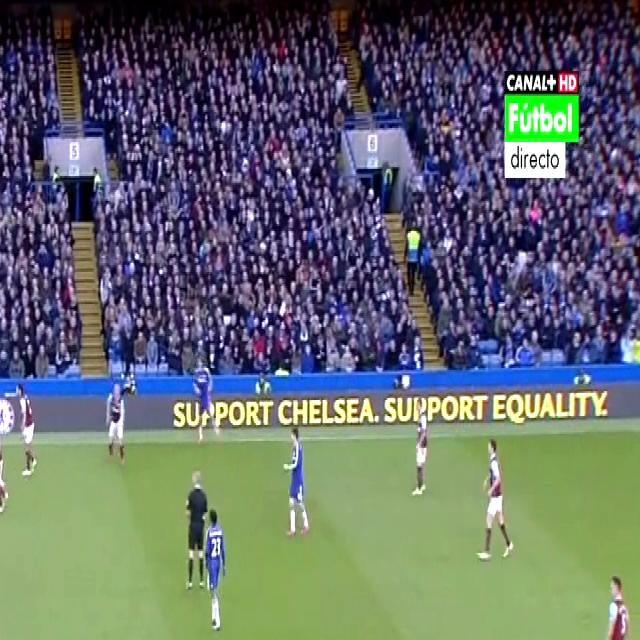referee: (180, 464, 212, 600)
soccer-player: (473, 431, 518, 574), (277, 416, 313, 542), (201, 500, 232, 638), (413, 393, 442, 505), (592, 569, 637, 640), (187, 352, 220, 446), (13, 371, 40, 484), (105, 376, 132, 472), (0, 391, 8, 516)
